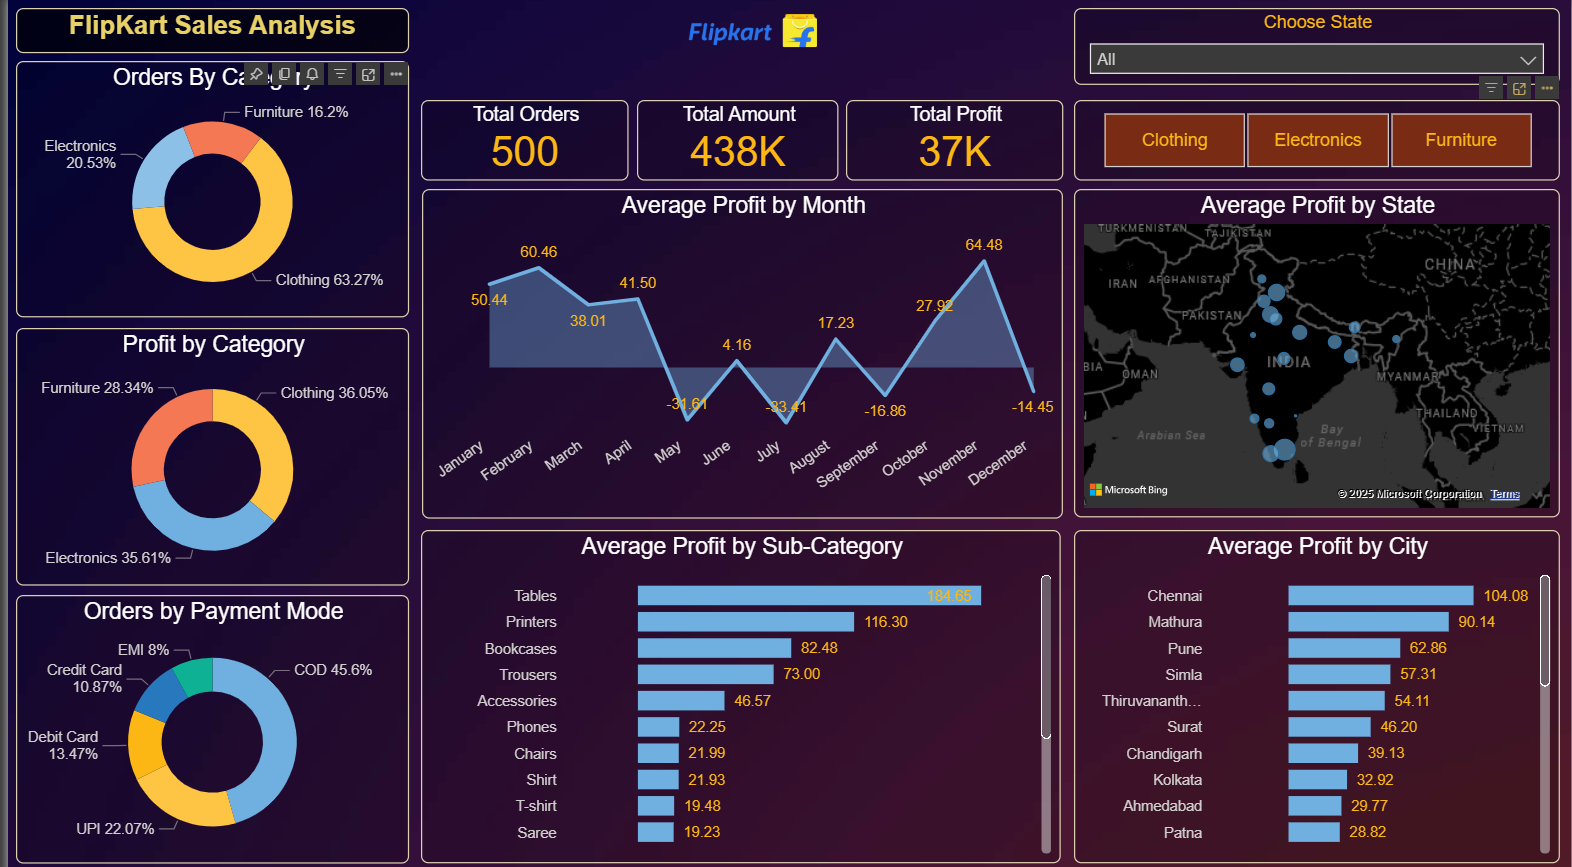

This screenshot's page, from the dashboard's own definition file:
{"tool":"powerbi","page":{"name":"FlipKart Sales Analysis","canvas":[1280,720],"ordinal":0},"visuals":[{"type":"image","box":[481.5,7.8,256.8,37],"z":0},{"type":"textbox","box":[6.9,7.8,321.7,37.1],"z":1000},{"type":"donutChart","title":"Orders By Category","fields":{"Category":["Details.Category"],"Y":["CountNonNull(Details.Order ID)"]},"box":[6.9,50.9,321.7,209.6],"z":2000},{"type":"donutChart","title":"Profit by Category","fields":{"Category":["Details.Category"],"Y":["Sum(Details.Profit)"]},"box":[6.9,269.1,321.7,211.3],"z":3000},{"type":"donutChart","title":"Orders by Payment Mode","fields":{"Category":["Details.PaymentMode"],"Y":["CountNonNull(Details.Order ID)"]},"box":[6.9,488.2,321.7,219.9],"z":4000},{"type":"lineChart","title":"Average Profit by Month","fields":{"Y":["Avg(Details.Profit)"],"Category":["Orders.Order Date.Variation.Date Hierarchy.Month"]},"box":[339.5,155.6,525.2,270.4],"z":5000},{"type":"map","title":"Average Profit by State","fields":{"Category":["Orders.State"],"Size":["Avg(Details.Profit)"]},"box":[873.4,155.6,397.8,269.4],"z":6000},{"type":"clusteredBarChart","title":"Average Profit by City","fields":{"Category":["Orders.City"],"Y":["Avg(Details.Profit)"]},"box":[873.4,434.8,397.8,273.3],"z":7000},{"type":"slicer","title":"Choose State","fields":{"Values":["Orders.State"]},"box":[873.4,7.8,397.8,63.2],"z":8000},{"type":"card","title":"Total Orders","fields":{"Values":["CountNonNull(Orders.Order ID)"]},"box":[338.5,82.7,170.2,66.1],"z":9000},{"type":"card","title":"Total Amount","fields":{"Values":["Sum(Details.Amount)"]},"box":[515.5,82.7,165.3,66.1],"z":10000},{"type":"card","title":"Total Profit","fields":{"Values":["Sum(Details.Profit)"]},"box":[686.7,82.7,178,66.1],"z":11000},{"type":"clusteredBarChart","title":"Average Profit by Sub-Category","fields":{"Y":["Avg(Details.Profit)"],"Category":["Details.Sub-Category"]},"box":[338.5,434.8,524.3,273.3],"z":12000},{"type":"slicer","fields":{"Values":["Details.Category"]},"box":[873.4,82.7,397.8,66.1],"z":13000}]}

Visuals, with their boxes in screenshot pixels (x1, y1, x2, y2):
image: Rect(589, 10, 906, 55)
textbox: Rect(4, 10, 401, 55)
"Orders By Category" donutChart: Rect(4, 63, 401, 321)
"Profit by Category" donutChart: Rect(4, 332, 401, 592)
"Orders by Payment Mode" donutChart: Rect(4, 602, 401, 866)
"Average Profit by Month" lineChart: Rect(414, 192, 1062, 525)
"Average Profit by State" map: Rect(1072, 192, 1563, 524)
"Average Profit by City" clusteredBarChart: Rect(1072, 536, 1563, 866)
"Choose State" slicer: Rect(1072, 10, 1563, 88)
"Total Orders" card: Rect(413, 102, 623, 183)
"Total Amount" card: Rect(631, 102, 835, 183)
"Total Profit" card: Rect(842, 102, 1062, 183)
"Average Profit by Sub-Category" clusteredBarChart: Rect(413, 536, 1059, 866)
slicer - Details.Category: Rect(1072, 102, 1563, 183)
